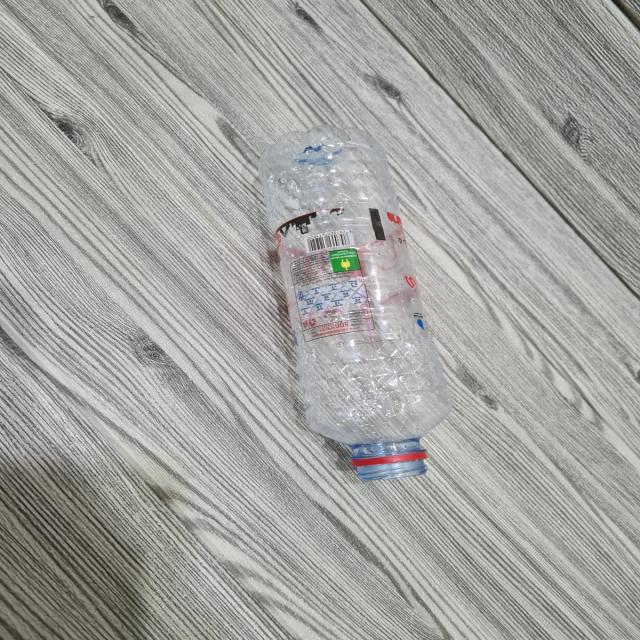bottle: (251, 130, 450, 485)
